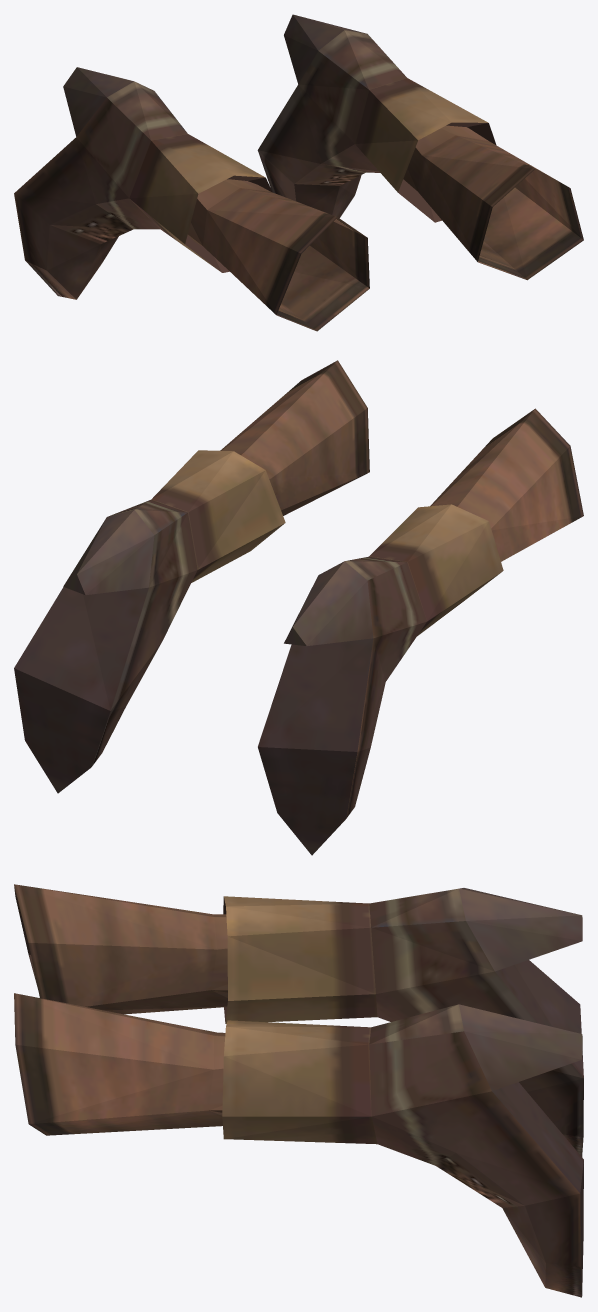
File: warrior_shoe_female_45000.obj
The picture shows the model from 3 angles, top to bottom: view 1: azimuth 30°, elevation 25°; view 2: azimuth 150°, elevation 25°; view 3: azimuth 270°, elevation 25°; orthographic projection. The views are drawn at different scales.
Visible parts, largest first — view 1: warrior_shoe_female_45000; view 2: warrior_shoe_female_45000; view 3: warrior_shoe_female_45000.
Boxes of the visible parts, x1,y1,x2,y2 form: warrior_shoe_female_45000: (14,14,583,331); warrior_shoe_female_45000: (14,360,583,855); warrior_shoe_female_45000: (14,884,583,1297).
Size of the model in its own units: 17.65 by 12.57 by 22.47.
1 material, 1 textured.
